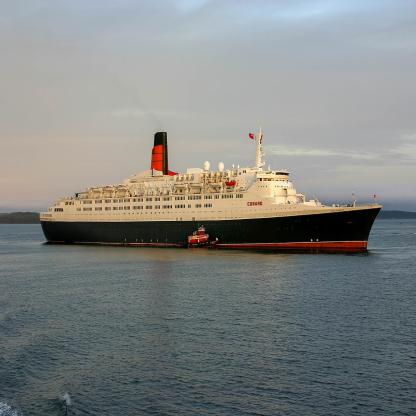Fishing Boat: (187, 227, 209, 243)
